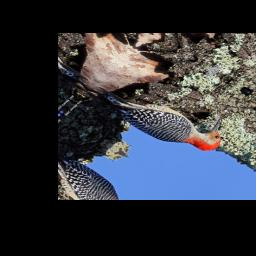Woodpecker: (87, 63, 239, 167)
